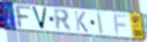F: (13, 4, 33, 30), (113, 14, 129, 37)
I: (96, 11, 104, 35)
K: (73, 10, 89, 34)
R: (52, 8, 73, 33)
V: (30, 6, 49, 31)
